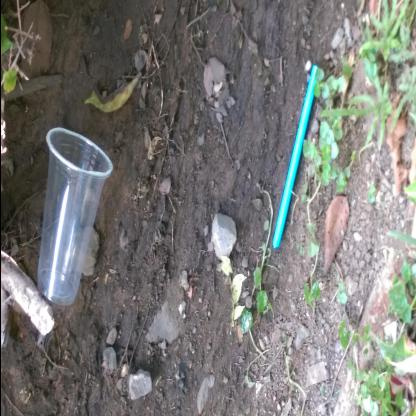plastik: (36, 125, 113, 307), (272, 63, 318, 250)
